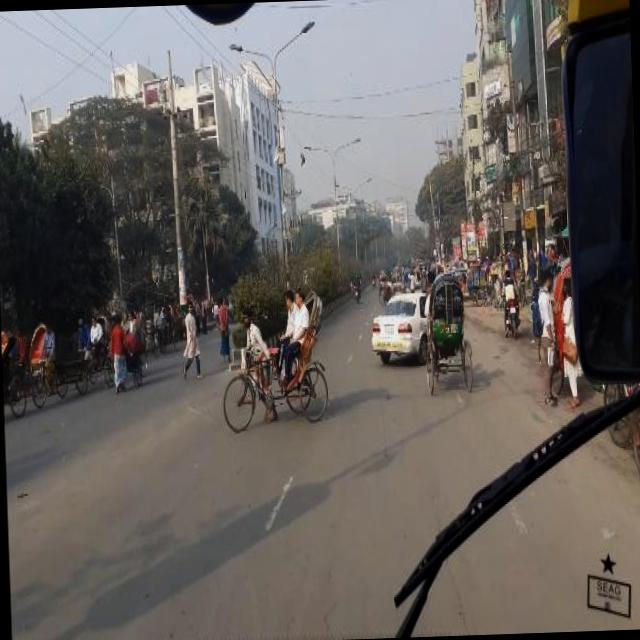car: (368, 286, 424, 366)
motorcycle: (220, 284, 332, 429), (422, 267, 476, 394), (601, 376, 640, 485), (72, 306, 116, 396), (1, 329, 28, 416), (150, 297, 182, 358), (27, 316, 51, 389), (500, 266, 521, 338), (391, 264, 409, 293), (377, 262, 389, 301), (427, 260, 448, 278), (352, 272, 362, 302), (371, 264, 379, 288)
